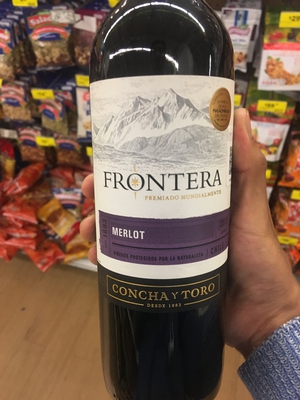frontera merlot: (91, 19, 263, 397)
